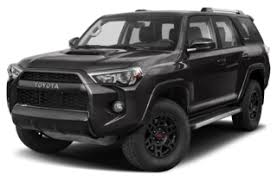Toyota: (7, 13, 260, 155)
